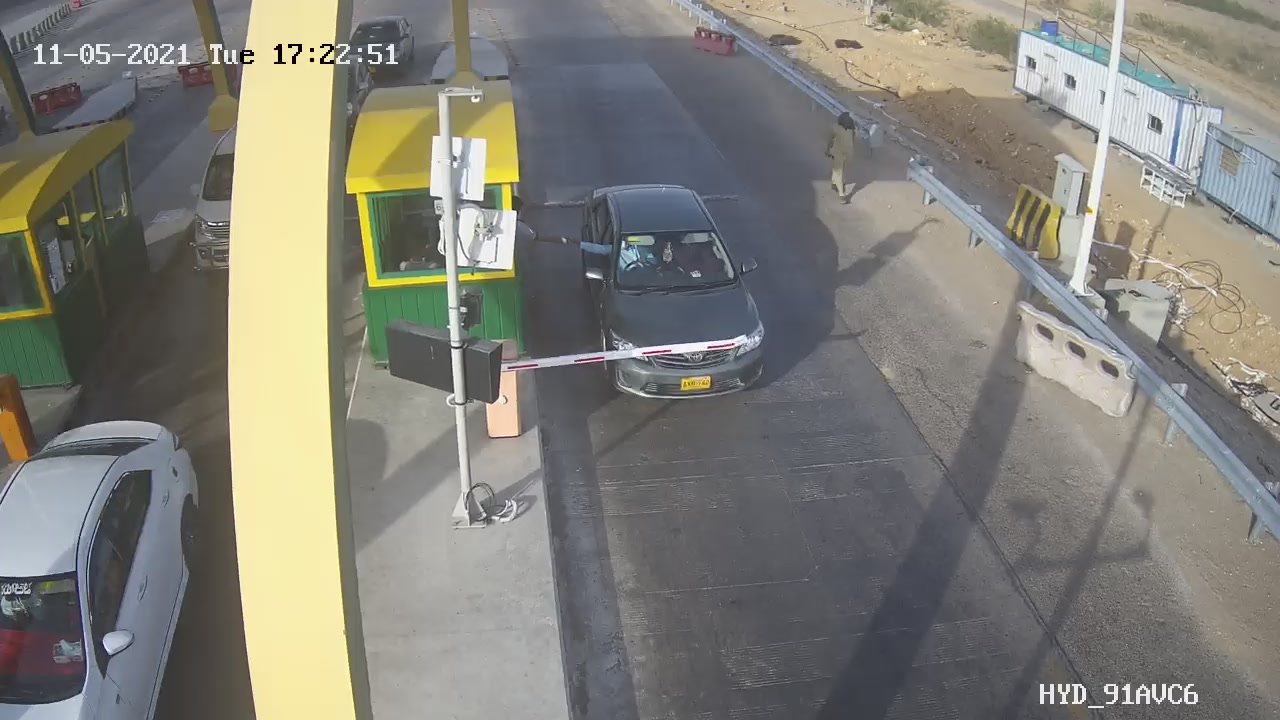F1: (563, 170, 791, 414)
